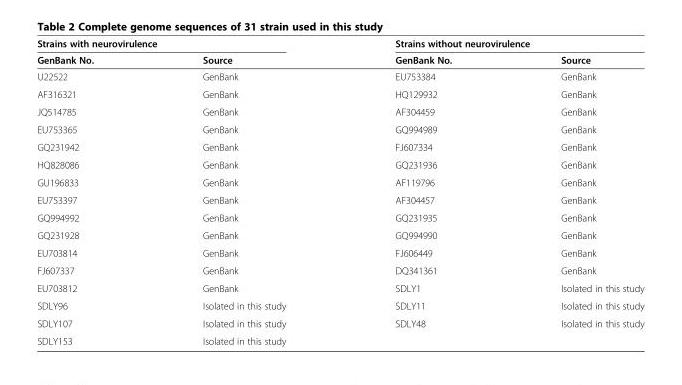table: (36, 37, 643, 346)
table column: (147, 37, 340, 346), (340, 37, 505, 346), (505, 37, 643, 346), (36, 37, 147, 346)
table column header: (36, 37, 643, 67)
table row: (36, 67, 643, 85), (36, 102, 643, 120), (36, 137, 643, 155), (36, 155, 643, 173), (36, 190, 643, 208), (36, 208, 643, 226), (36, 243, 643, 261), (36, 261, 643, 279), (36, 296, 643, 314), (36, 85, 643, 102), (36, 120, 643, 137), (36, 173, 643, 190), (36, 226, 643, 243), (36, 279, 643, 296), (36, 314, 643, 331), (36, 51, 643, 67), (36, 331, 643, 346), (36, 37, 643, 51)
table spanning cell: (36, 37, 340, 51), (340, 37, 643, 51)
